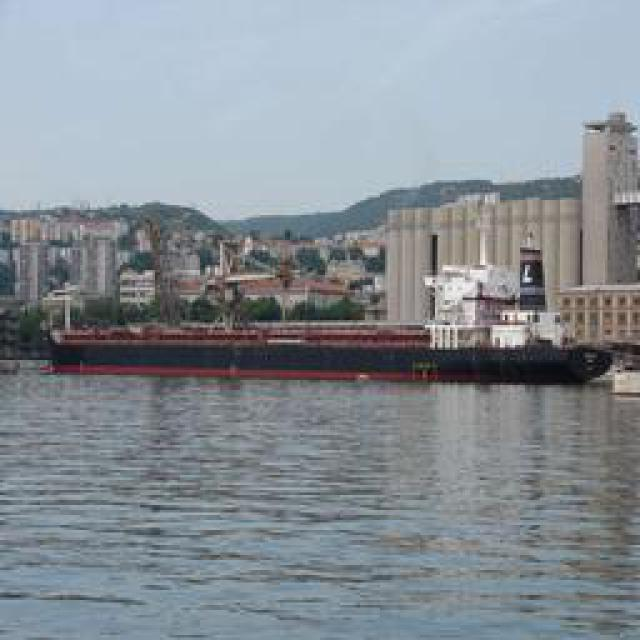Ship: (27, 319, 615, 384)
